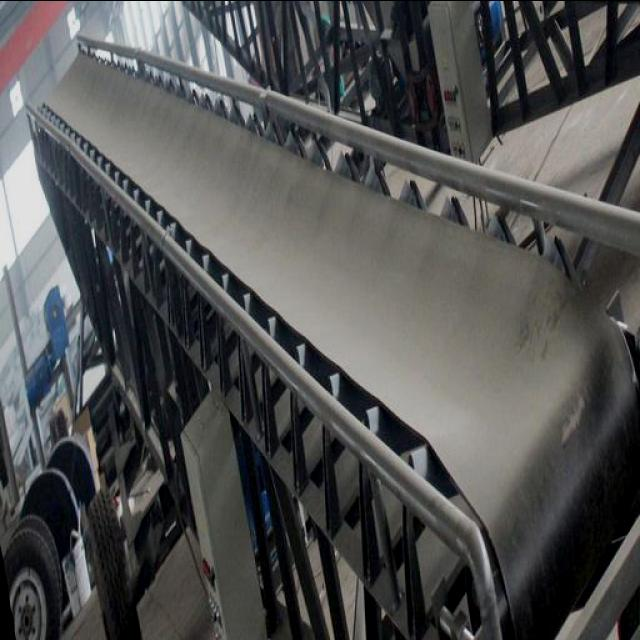conveyor: (50, 48, 640, 640)
